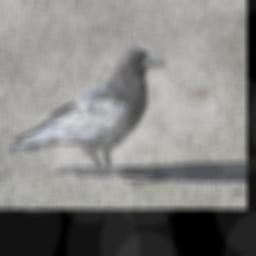Crow: (6, 45, 167, 187)
